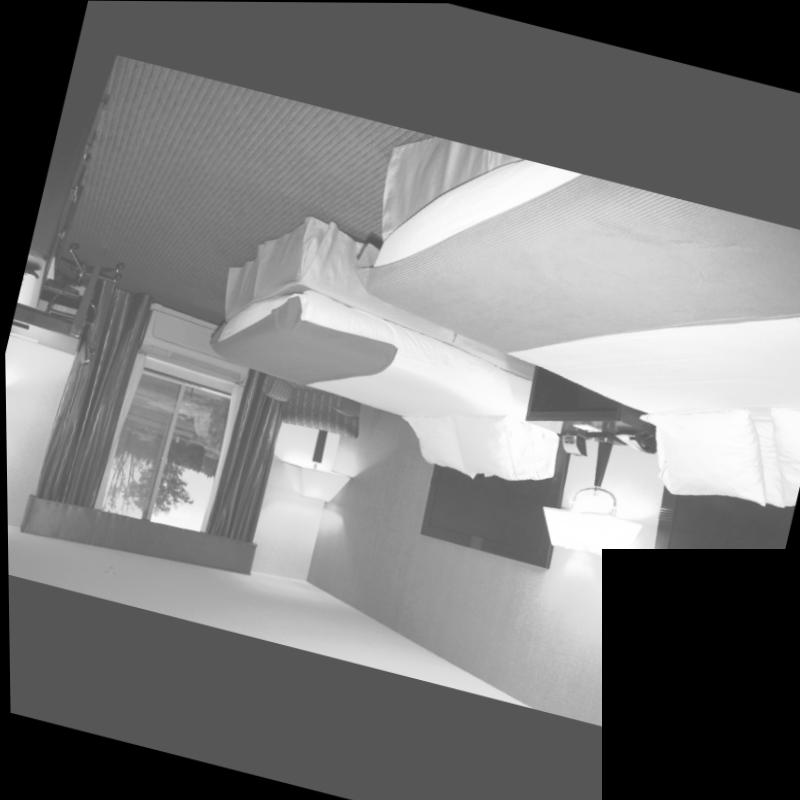pillow: (637, 393, 798, 519), (426, 392, 535, 490), (392, 403, 487, 479), (752, 400, 800, 509), (496, 419, 559, 485)
